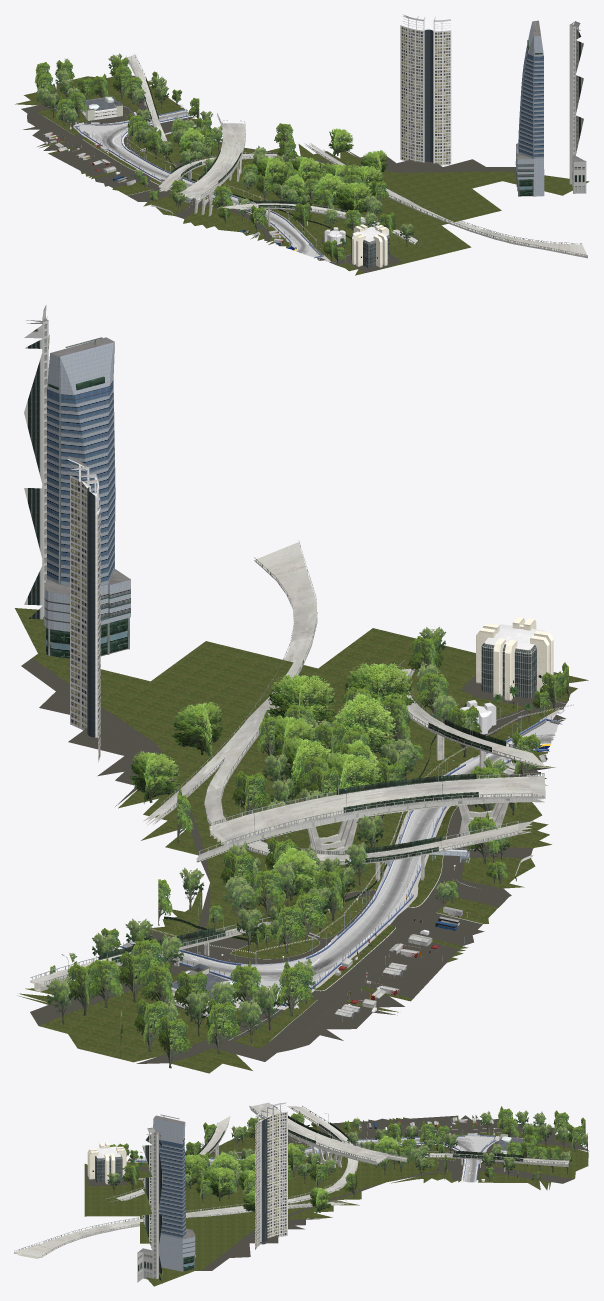
3 renders of one model, top to bottom at view 1: azimuth 30°, elevation 25°; view 2: azimuth 150°, elevation 25°; view 3: azimuth 270°, elevation 25°, orthographic. The views are drawn at different scales.
Parts seen in each view (by area): view 1: m14_t02, m97_t02, m23_t02, m96_t02, m56_t02, m81_t02, m7_t02, m24_t02, m15_t02, m16_t02, m0_t02, m79_t02 (+3 smaller); view 2: m14_t02, m97_t02, m96_t02, m81_t02, m56_t02, m23_t02, m7_t02, m24_t02, m15_t02, m16_t02, m79_t02, m0_t02 (+3 smaller); view 3: m14_t02, m97_t02, m56_t02, m81_t02, m96_t02, m23_t02, m7_t02, m24_t02, m16_t02, m15_t02, m0_t02, m79_t02 (+1 smaller).
Part boxes in pixels (<box>): m14_t02: <box>34,53,414,265</box>; m97_t02: <box>15,76,589,275</box>; m23_t02: <box>400,14,451,165</box>; m96_t02: <box>21,75,515,272</box>; m56_t02: <box>515,20,586,196</box>; m81_t02: <box>126,55,587,258</box>; m7_t02: <box>126,54,587,256</box>; m24_t02: <box>351,224,389,268</box>; m15_t02: <box>44,111,309,254</box>; m16_t02: <box>74,111,325,259</box>; m0_t02: <box>44,96,345,261</box>; m79_t02: <box>43,132,286,246</box>; m14_t02: <box>46,627,568,1068</box>; m97_t02: <box>15,608,588,1073</box>; m96_t02: <box>21,658,569,1063</box>; m81_t02: <box>30,542,545,991</box>; m56_t02: <box>24,305,130,658</box>; m23_t02: <box>67,456,100,762</box>; m7_t02: <box>30,540,544,984</box>; m24_t02: <box>476,617,553,700</box>; m15_t02: <box>122,733,555,1040</box>; m16_t02: <box>179,715,557,1009</box>; m79_t02: <box>335,754,547,1017</box>; m0_t02: <box>112,700,564,1040</box>; m14_t02: <box>107,1106,587,1213</box>; m97_t02: <box>84,1115,588,1286</box>; m56_t02: <box>137,1114,195,1283</box>; m81_t02: <box>14,1102,568,1258</box>; m96_t02: <box>84,1115,589,1270</box>; m23_t02: <box>255,1102,287,1249</box>; m7_t02: <box>14,1104,568,1256</box>; m24_t02: <box>87,1142,126,1184</box>; m16_t02: <box>129,1136,499,1181</box>; m15_t02: <box>209,1132,524,1182</box>; m0_t02: <box>138,1118,542,1182</box>; m79_t02: <box>185,1117,493,1151</box>.
Bounding box in the file's own units: 502 × 214 × 711.
29 materials, 28 textured.
